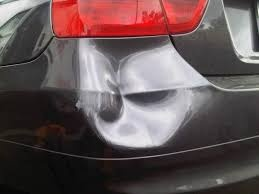Dent: (73, 35, 201, 152)
